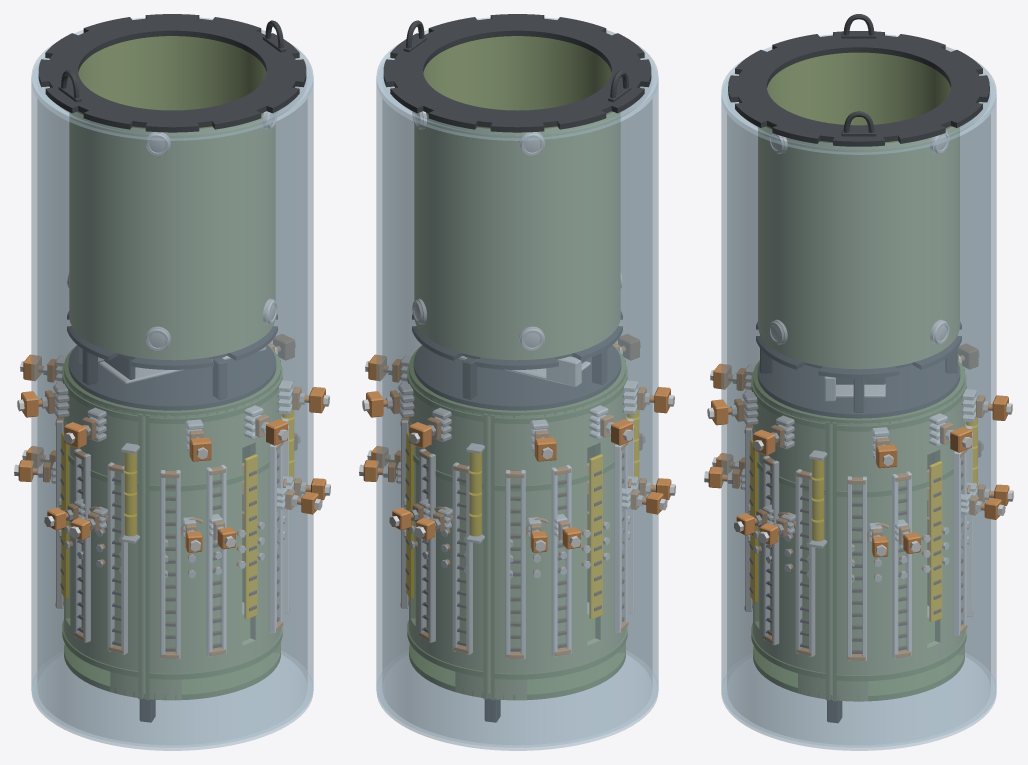
Rendered from cmd-insert.glb.
3 renders of one model, left to right at view 1: azimuth 30°, elevation 25°; view 2: azimuth 150°, elevation 25°; view 3: azimuth 270°, elevation 25°, orthographic. The views are drawn at different scales.
Visible parts, largest first — view 1: comp, ins-frame, resistor, accum, comp-term, ins-term, zno, arc-fixed, lift; view 2: comp, ins-frame, resistor, accum, comp-term, ins-term, zno, arc-fixed, lift; view 3: comp, ins-frame, resistor, accum, comp-term, ins-term, zno, arc-fixed, lift.
Boxes of the visible parts, x1,y1,x2,y2 form: comp: (31,17,313,750); ins-frame: (38,14,306,722); resistor: (55,417,289,659); accum: (67,311,277,410); comp-term: (14,334,330,552); ins-term: (51,344,293,538); zno: (121,395,294,543); arc-fixed: (58,463,286,578); lift: (58,20,286,102); comp: (376,17,658,750); ins-frame: (383,14,651,722); resistor: (400,417,634,659); accum: (412,311,622,410); comp-term: (359,334,675,552); ins-term: (396,344,638,538); zno: (466,395,639,543); arc-fixed: (403,463,631,578); lift: (403,20,631,102); comp: (721,34,996,750); ins-frame: (728,31,989,723); resistor: (744,425,973,661); accum: (756,322,961,418); comp-term: (704,344,1013,557); ins-term: (740,364,977,543); zno: (809,404,977,548); arc-fixed: (747,469,970,582); lift: (841,14,876,136).
Bounding box in the file's own units: 0.5368 × 1.21 × 0.5371.
